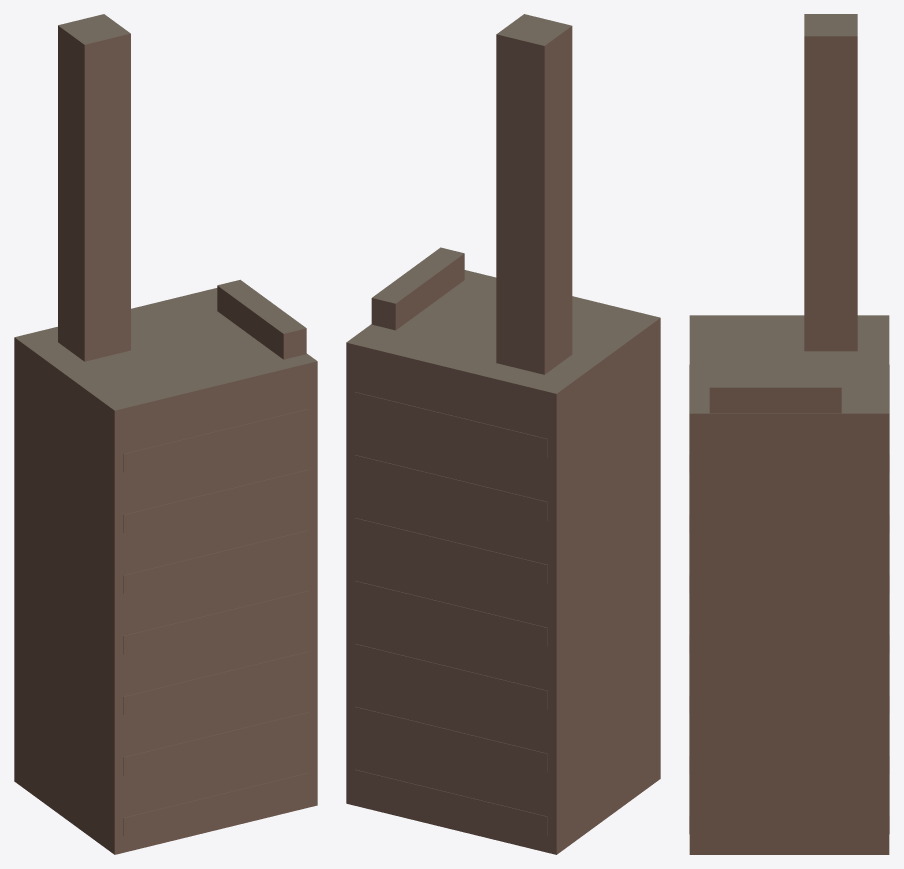
File: ew-boiler-tower.far-facades-v2.lod2.glb
3 renders of one model, left to right at view 1: azimuth 30°, elevation 25°; view 2: azimuth 150°, elevation 25°; view 3: azimuth 270°, elevation 25°, orthographic. The views are drawn at different scales.
Visible parts, largest first — view 1: ew-boiler-tower; view 2: ew-boiler-tower; view 3: ew-boiler-tower.
Boxes of the visible parts, box(x1,y1,x2,y2) form: ew-boiler-tower: box(14, 14, 317, 854); ew-boiler-tower: box(346, 14, 660, 854); ew-boiler-tower: box(689, 14, 889, 854).
Bounding box in the file's own units: 14 × 50.2 × 12.06.
